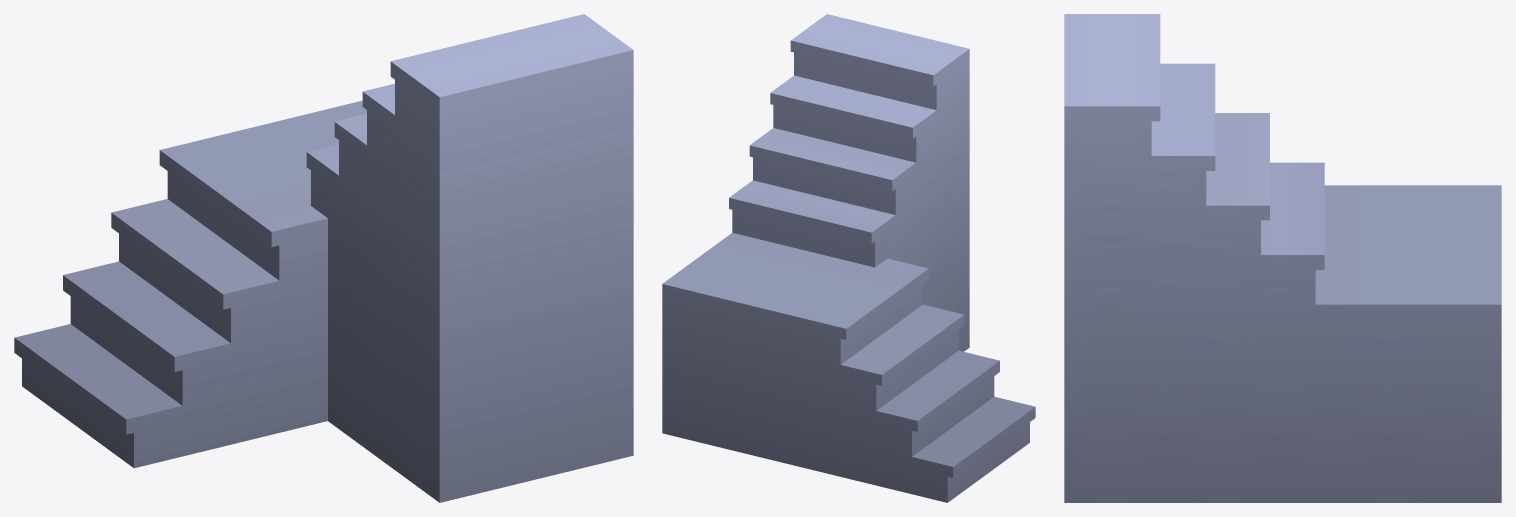
Rendered from stairsStoneCorner.fbx.
3 renders of one model, left to right at view 1: azimuth 30°, elevation 25°; view 2: azimuth 150°, elevation 25°; view 3: azimuth 270°, elevation 25°, orthographic. The views are drawn at different scales.
Parts seen in each view (by area): view 1: stairsStoneCorner; view 2: stairsStoneCorner; view 3: stairsStoneCorner.
Part boxes in pixels (x1,y1,x2,y2): stairsStoneCorner: (14,14,633,502); stairsStoneCorner: (662,14,1035,502); stairsStoneCorner: (1064,14,1501,502).
Bounding box in the file's own units: 1.02 × 1 × 1.
